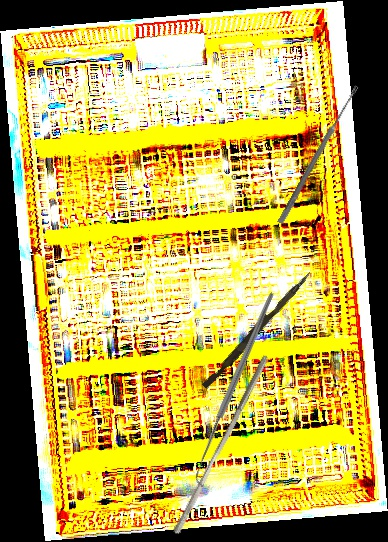Hook Surgical: (131, 290, 342, 489)
Pusher: (171, 350, 271, 539), (201, 267, 313, 392)
Surgical Spoon: (277, 84, 360, 225)
